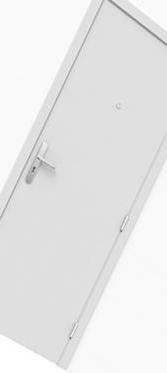door: (0, 0, 167, 371)
